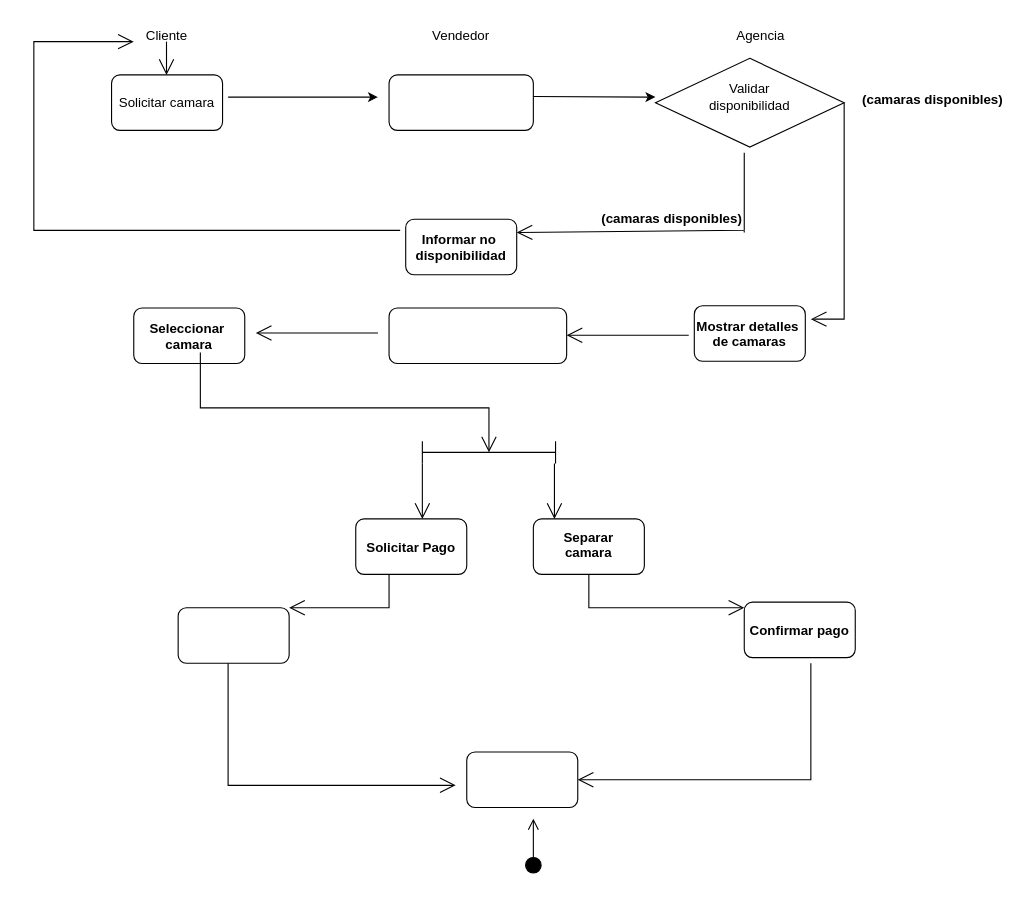
Some shapes in this 1022 by 905 pixel diagram are drawn without their labels. The box of each missing label's shape, as (x1, y1, x2, y2) in pixels:
Generar tiquete de compra: (466, 751, 578, 808)
Informar detalles y precios de camaras: (388, 307, 567, 364)
Pagar Camara: (177, 607, 289, 663)
Solicitar disponibilidad de camaras: (388, 74, 533, 130)
